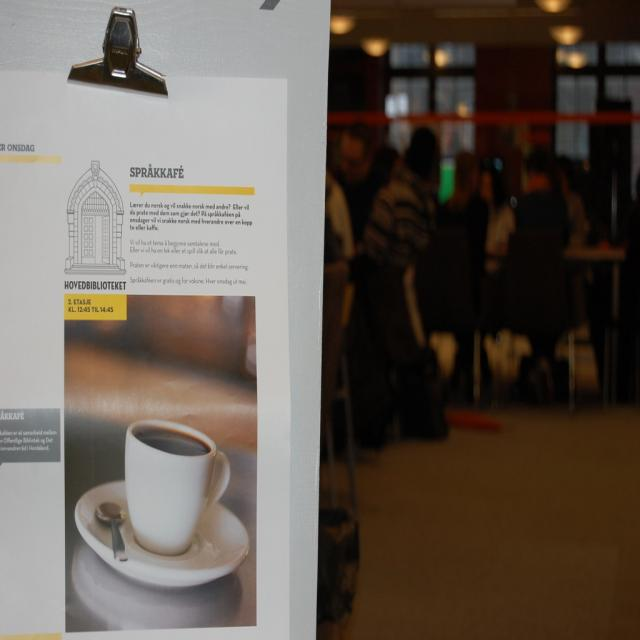Coffee: (121, 423, 221, 548), (136, 426, 212, 456)
Tea: (132, 420, 212, 454)
